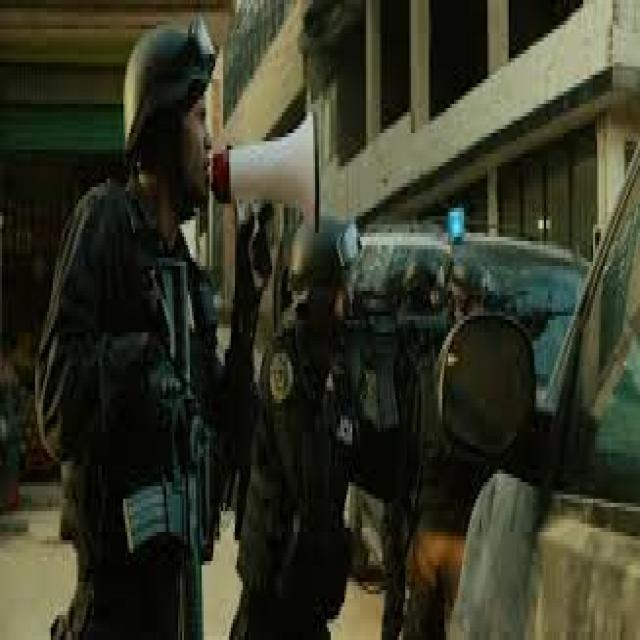weapon: (120, 255, 217, 640), (298, 290, 454, 456)
